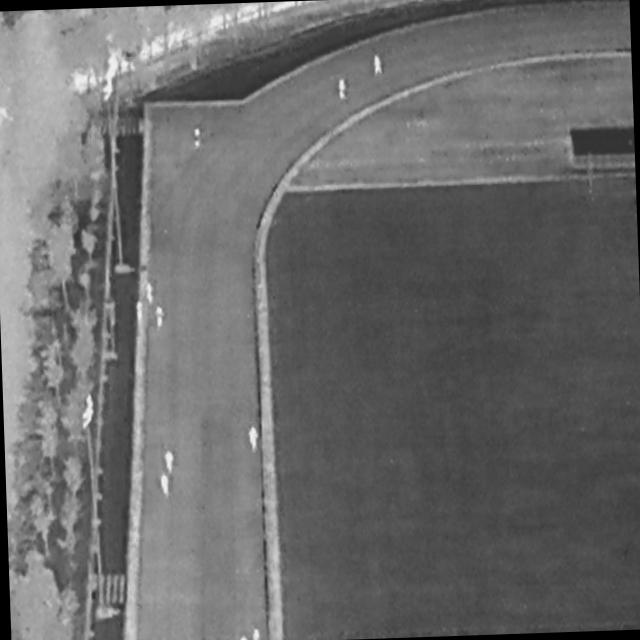person: (248, 427, 260, 452), (156, 307, 167, 331), (165, 450, 176, 473), (338, 78, 348, 102), (146, 282, 156, 306), (160, 475, 170, 498), (193, 129, 203, 150), (374, 56, 384, 77), (136, 302, 145, 323), (251, 628, 261, 640), (239, 634, 251, 640)
